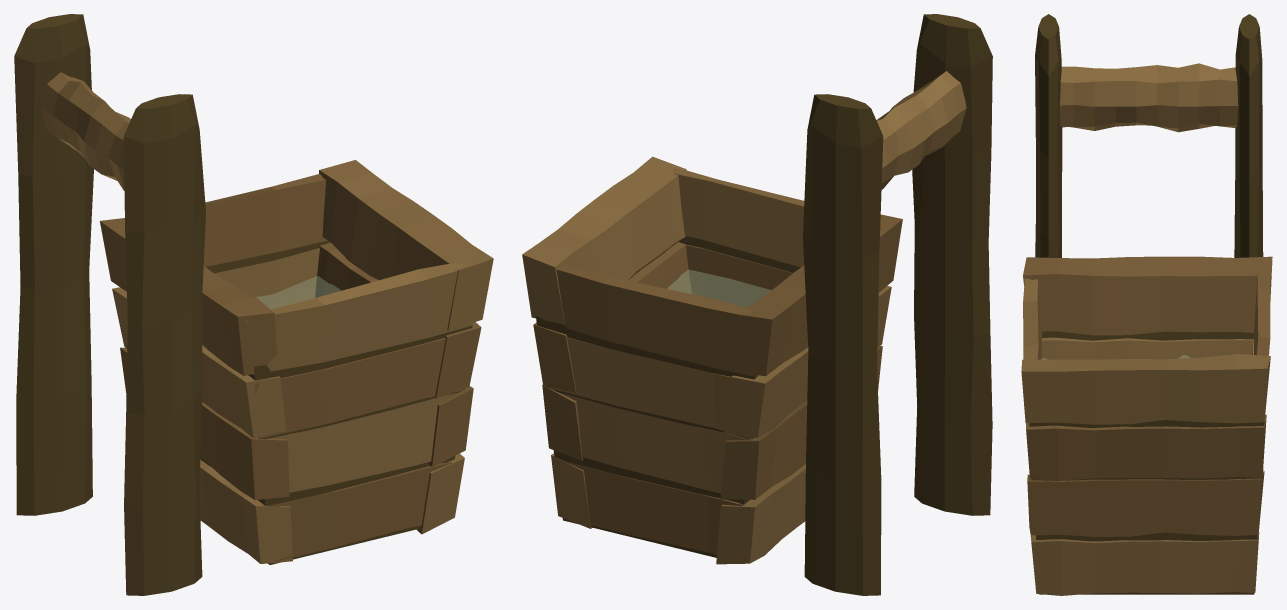
Rendered from bench.glb.
3 renders of one model, left to right at view 1: azimuth 30°, elevation 25°; view 2: azimuth 150°, elevation 25°; view 3: azimuth 270°, elevation 25°, orthographic. The views are drawn at different scales.
Visible parts, largest first — view 1: Cube.001; view 2: Cube.001; view 3: Cube.001.
Boxes of the visible parts, <box> form: Cube.001: <box>14,14,493,595</box>; Cube.001: <box>522,14,992,595</box>; Cube.001: <box>1021,14,1272,595</box>.
Bounding box in the file's own units: 3.14 × 4.13 × 2.1.
